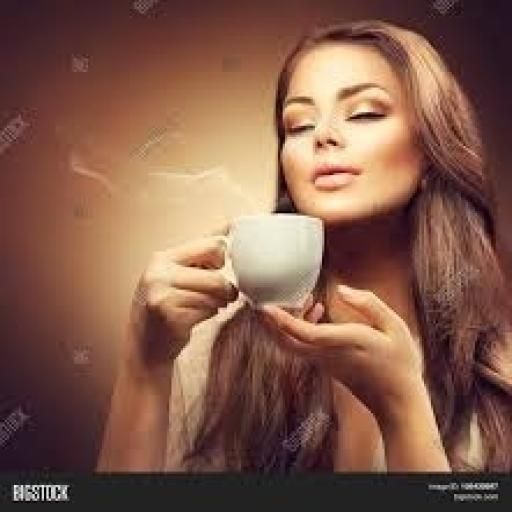drinking: (213, 211, 324, 310)
